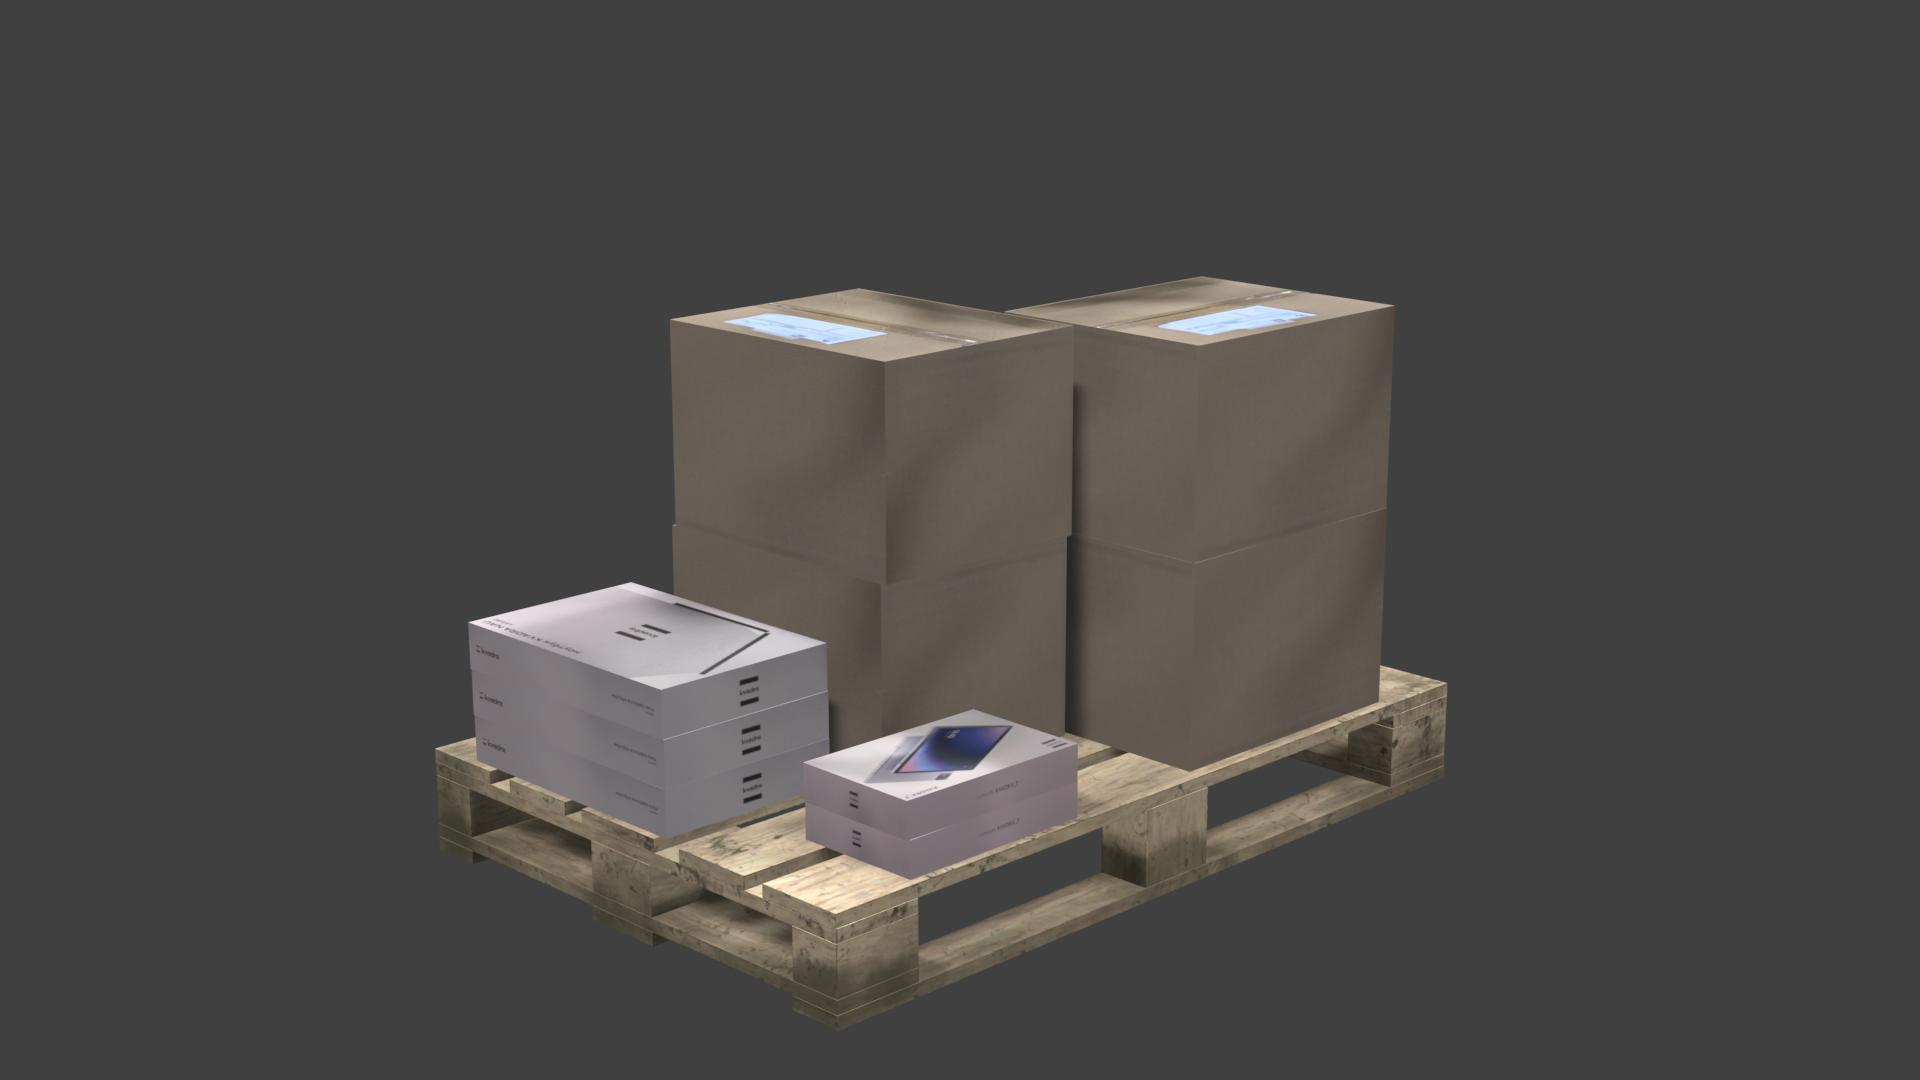group_box_left: (669, 320, 1072, 585), (673, 527, 1067, 750), (1065, 509, 1386, 773), (1073, 307, 1395, 563)
group_box_top: (676, 287, 1071, 363), (1011, 277, 1391, 345)
laptop_left: (475, 717, 832, 837), (472, 673, 828, 790), (471, 624, 827, 738)
laptop_top: (469, 582, 827, 690)
palet: (434, 663, 1451, 1035)
tablet_left: (807, 782, 1077, 878), (804, 746, 1077, 840)
tablet_top: (804, 709, 1076, 802)
